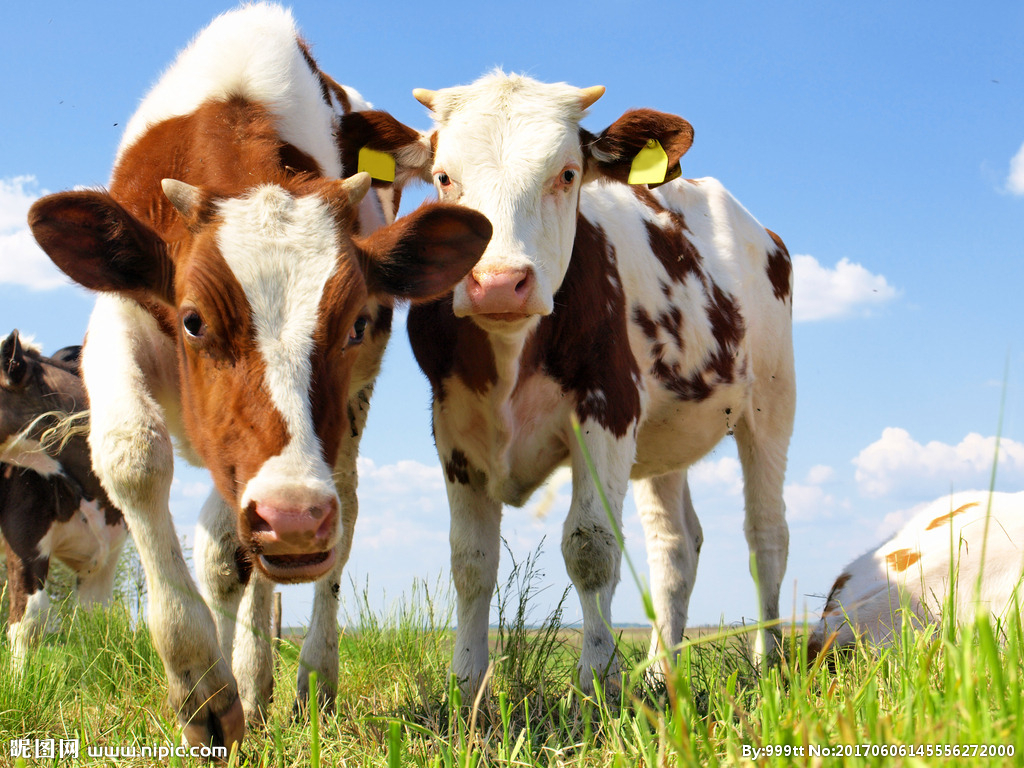background: (349, 67, 798, 745)
